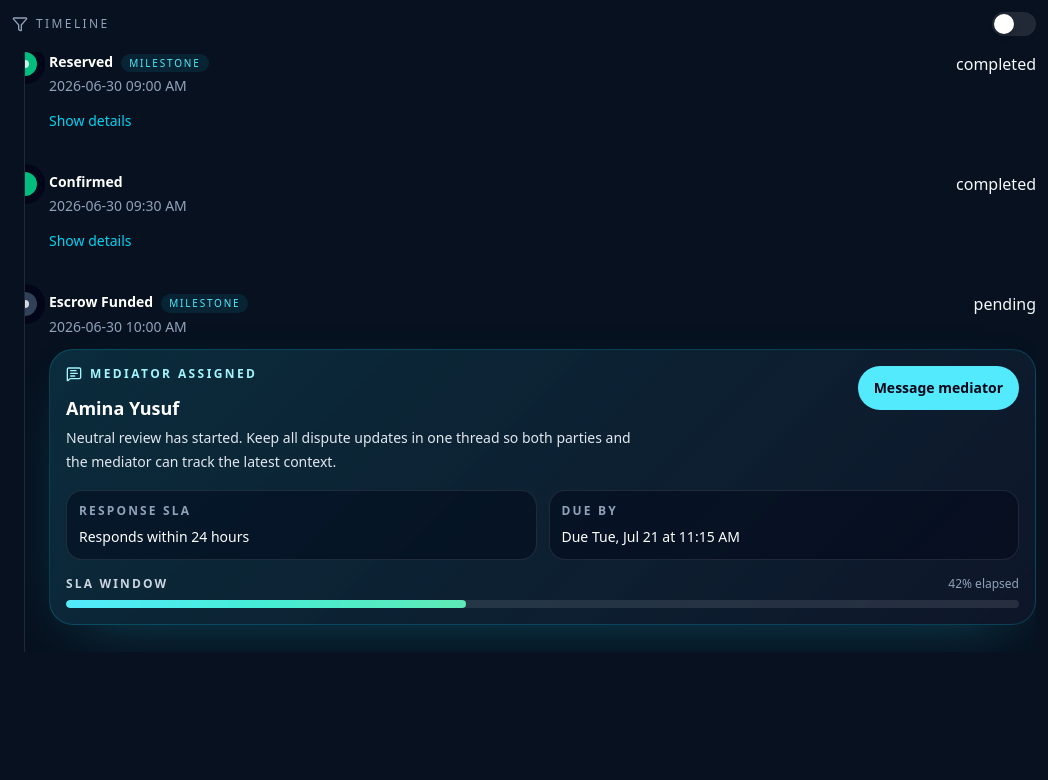
it: StatusTimeline › filters to milestones only when toggle is activated
Click the switch.
click(1014, 24)  # box [992, 12, 1036, 36]
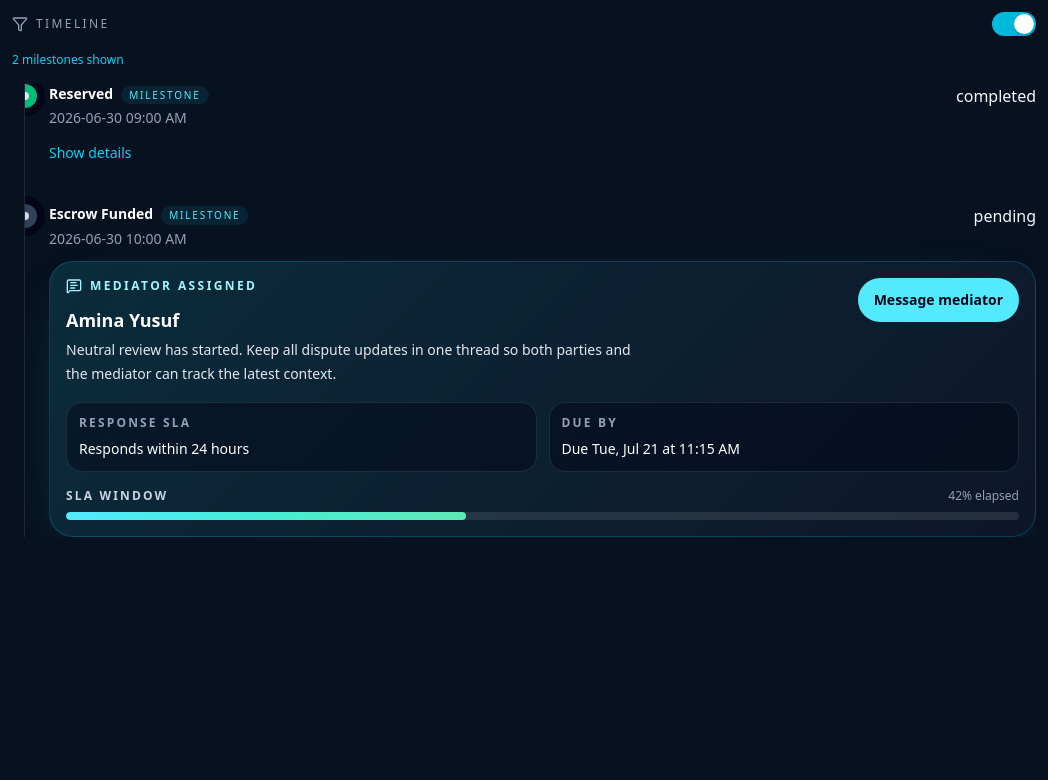
Expected: the heading "Reserved Milestone" is shown, [49, 84, 208, 104]
Expected: the heading "Confirmed" is gone
